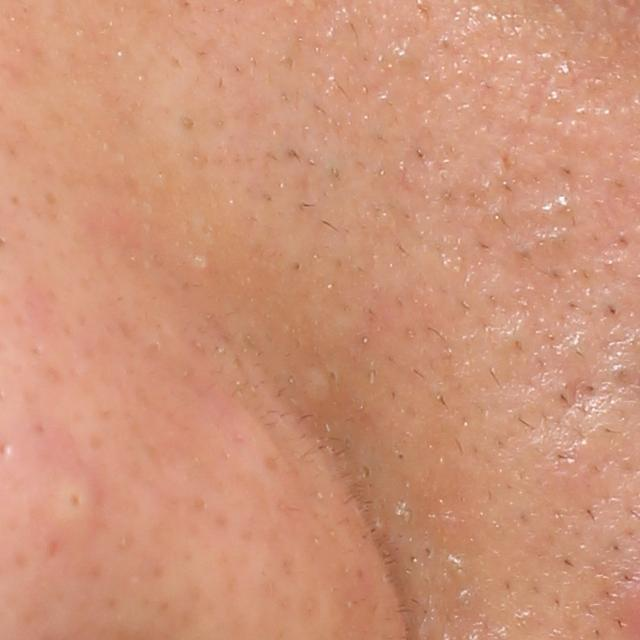comedo: (46, 477, 101, 521), (187, 250, 212, 273)
